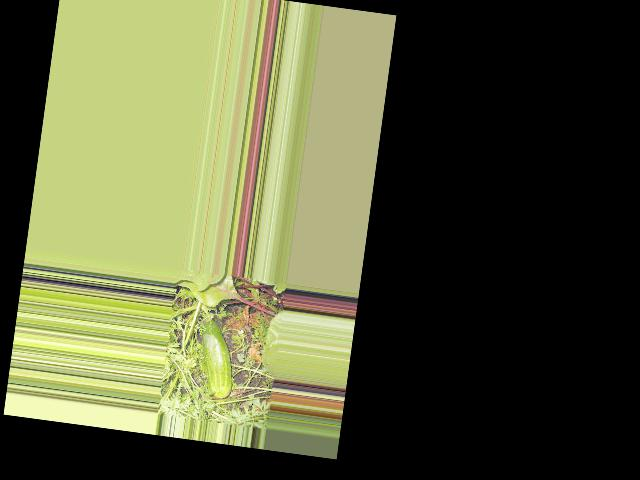cucumber: (192, 318, 239, 398)
